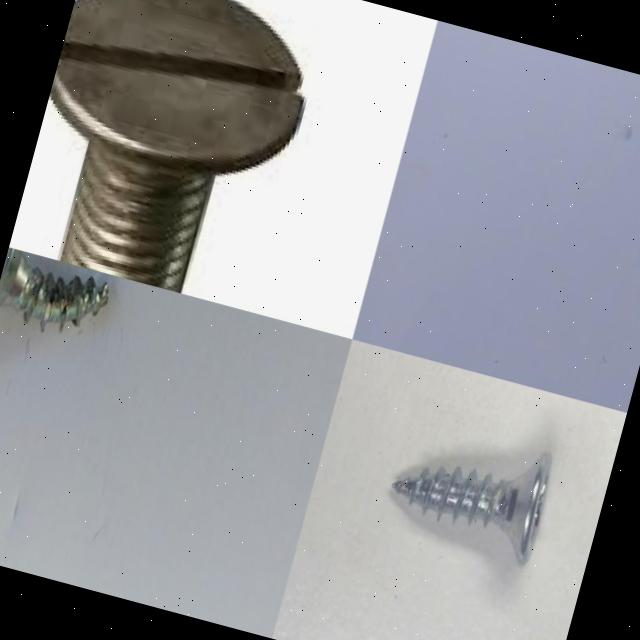Screw: (48, 0, 305, 294), (392, 452, 552, 564), (0, 247, 108, 331)
